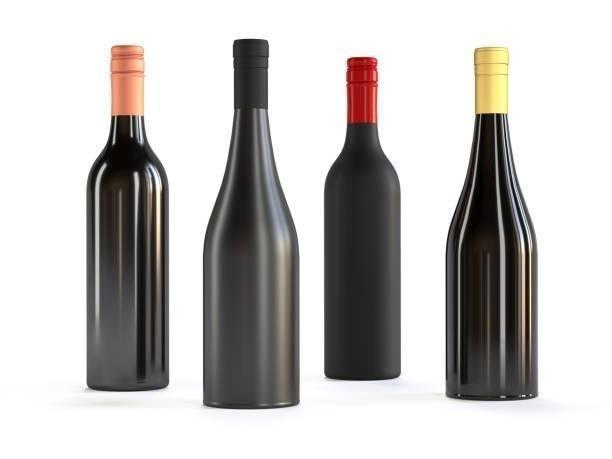bottle-glass: (197, 34, 305, 414), (441, 41, 543, 397), (81, 39, 175, 395), (319, 52, 407, 386)
